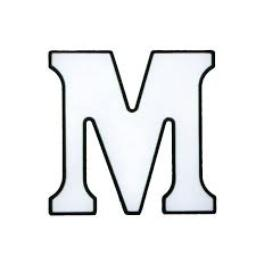m: (35, 32, 223, 228)
